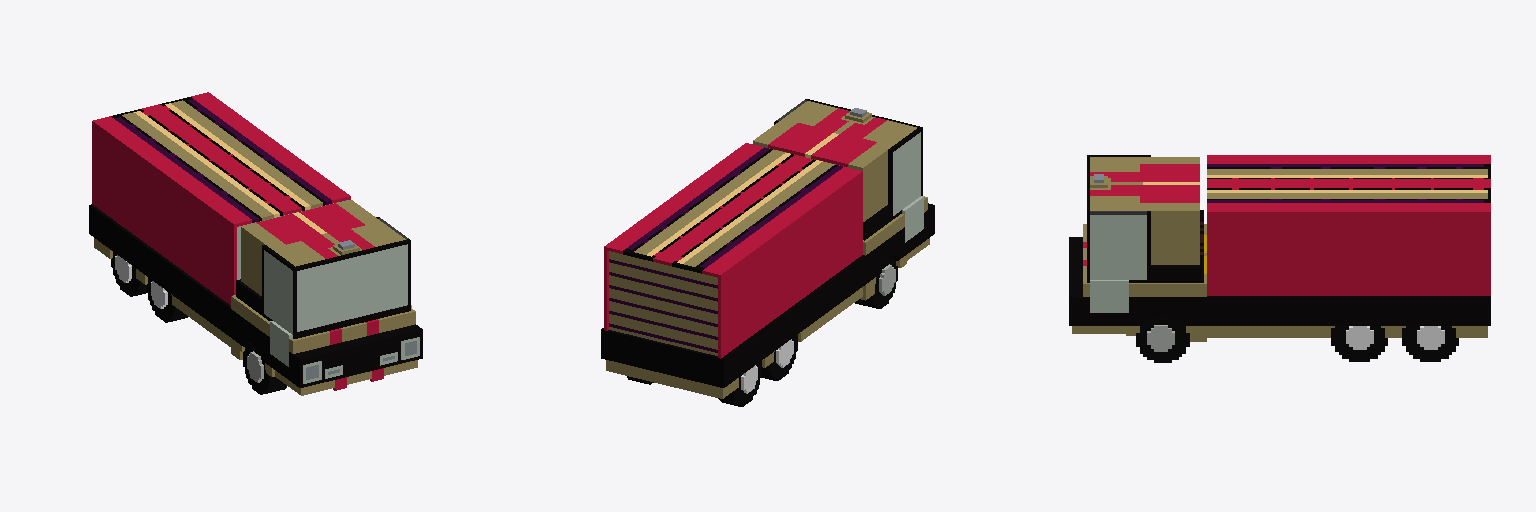
The picture shows the model from 3 angles: view 1: azimuth 30°, elevation 25°; view 2: azimuth 150°, elevation 25°; view 3: azimuth 270°, elevation 25°; orthographic projection.
Parts seen in each view (by area): view 1: bldr_TruckThird; view 2: bldr_TruckThird; view 3: bldr_TruckThird.
Boxes of the visible parts, box(x1,y1,x2,y2) form: bldr_TruckThird: box(89, 92, 422, 395); bldr_TruckThird: box(601, 99, 934, 406); bldr_TruckThird: box(1069, 155, 1490, 362).
Size of the model in its own units: 40 by 49 by 119.
Materials: 1 (1 with a texture image).